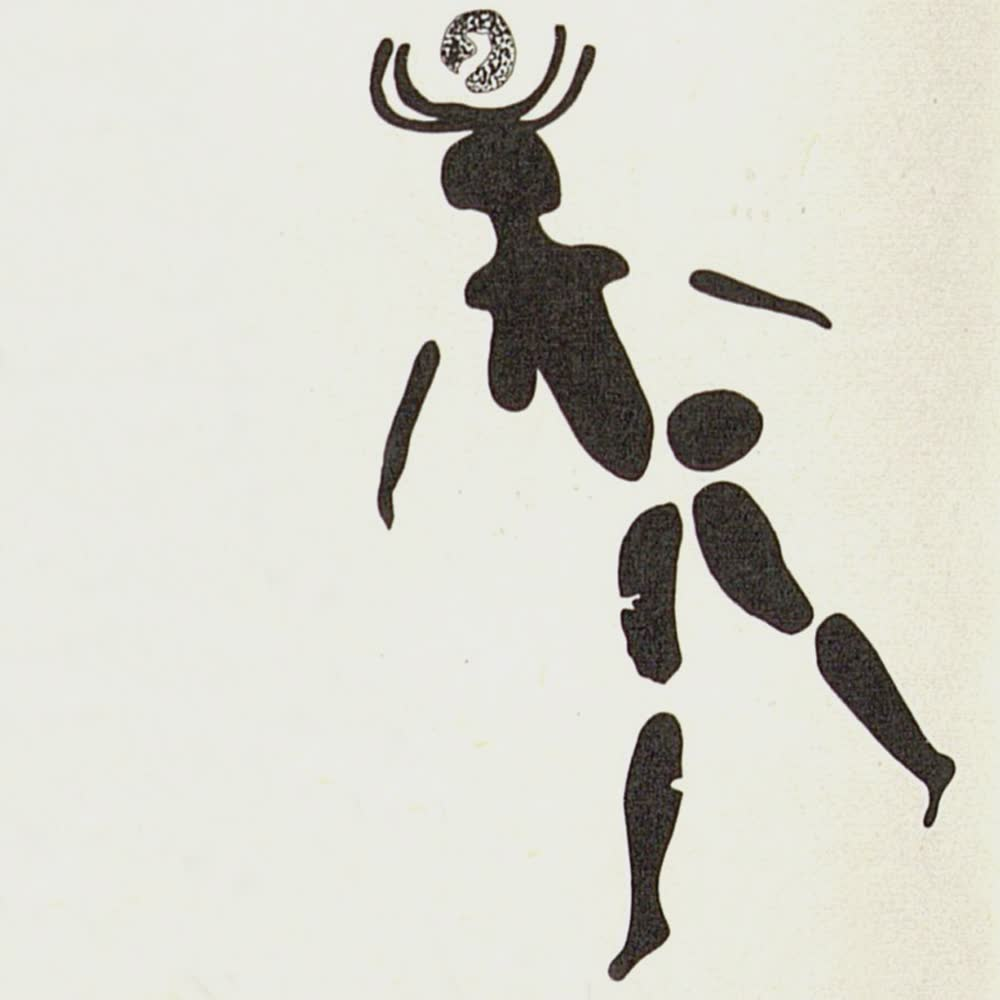woman: (359, 5, 957, 990)
